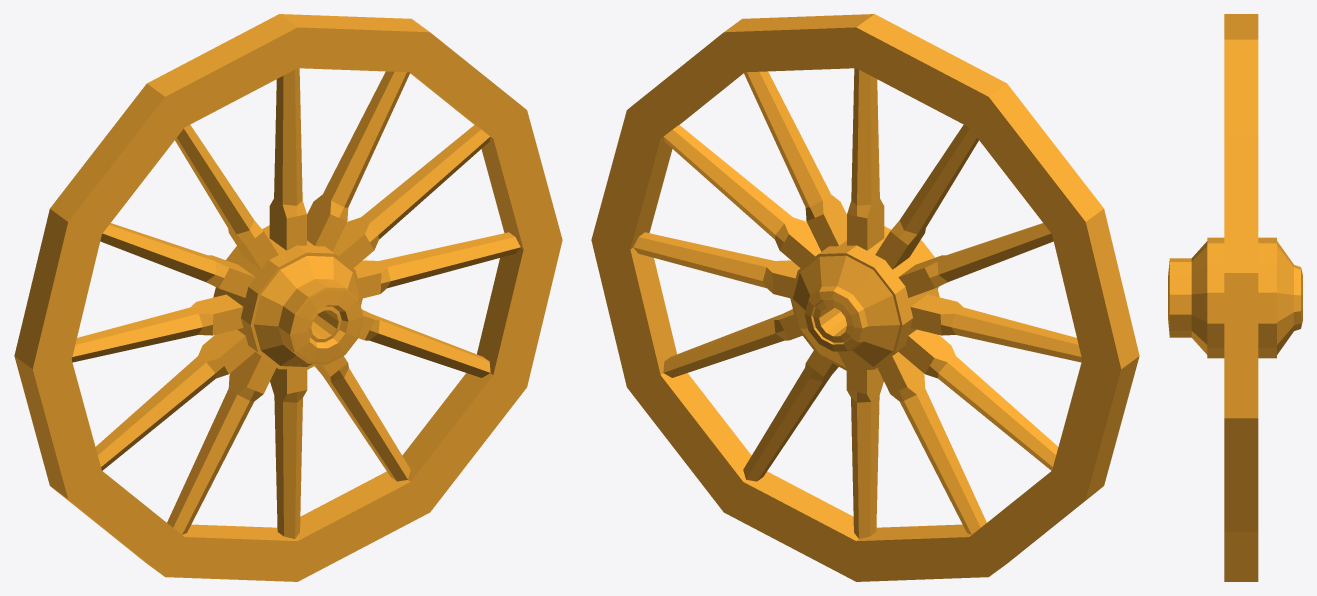
Rendered from SM_Wheel_Wooden_Medium.fbx.
3 views of the same model, side by side, from view 1: azimuth 30°, elevation 25°; view 2: azimuth 150°, elevation 25°; view 3: azimuth 270°, elevation 25° (orthographic). The views are drawn at different scales.
Visible parts, largest first — view 1: wheel-wooden-medium; view 2: wheel-wooden-medium; view 3: wheel-wooden-medium.
Part boxes in pixels (bbox=[...]): wheel-wooden-medium: bbox=[14, 14, 562, 581]; wheel-wooden-medium: bbox=[591, 14, 1139, 581]; wheel-wooden-medium: bbox=[1168, 14, 1302, 581].
Bounding box in the file's own units: 1 × 1 × 0.2363.
